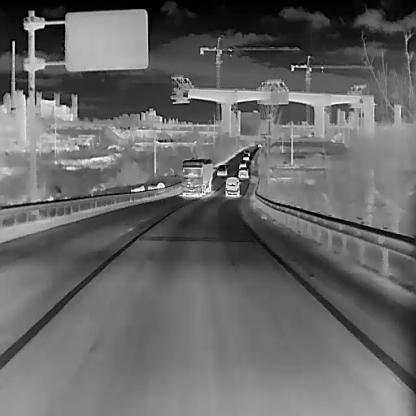car: (180, 157, 212, 197), (224, 176, 239, 198), (237, 167, 248, 179), (216, 163, 226, 175), (238, 159, 245, 167), (242, 152, 248, 159), (243, 149, 249, 154)
